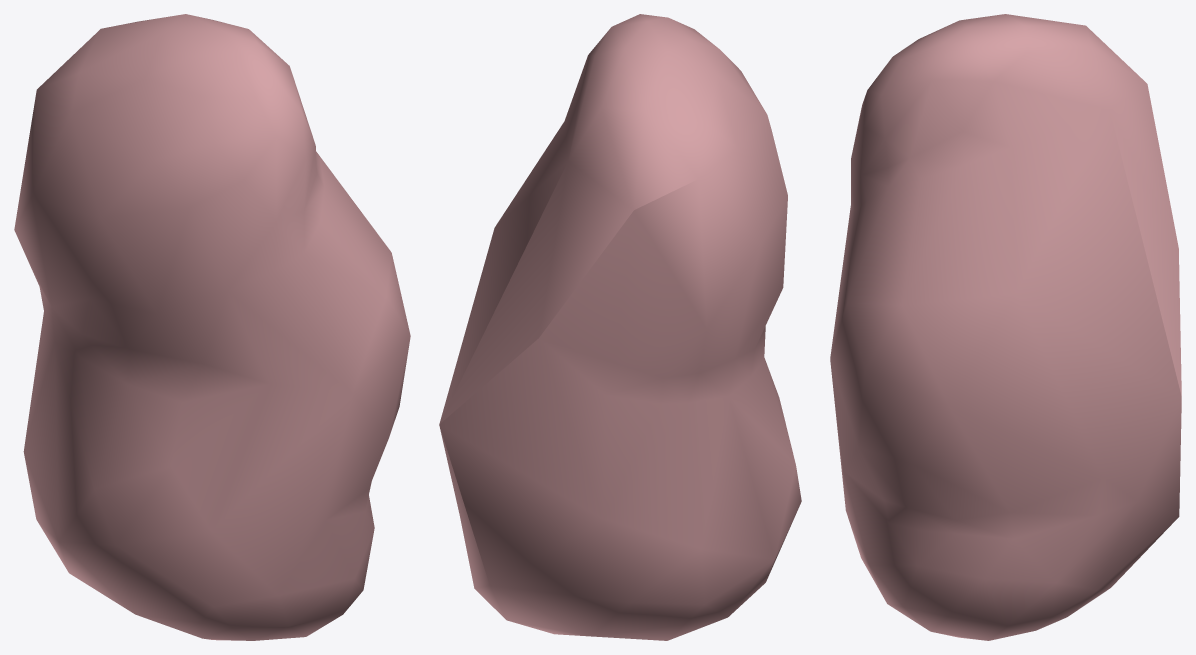
Rendered from fma14966_fj2598.glb.
3 renders of one model, left to right at view 1: azimuth 30°, elevation 25°; view 2: azimuth 150°, elevation 25°; view 3: azimuth 270°, elevation 25°, orthographic. The views are drawn at different scales.
Visible parts, largest first — view 1: FMA14966_FJ2598; view 2: FMA14966_FJ2598; view 3: FMA14966_FJ2598.
Part boxes in pixels (box(x1,y1,x2,y2)): FMA14966_FJ2598: box(14, 14, 410, 640); FMA14966_FJ2598: box(439, 14, 801, 640); FMA14966_FJ2598: box(830, 14, 1181, 640).
Size of the model in its own units: 0.0224 by 0.0417 by 0.0231.
